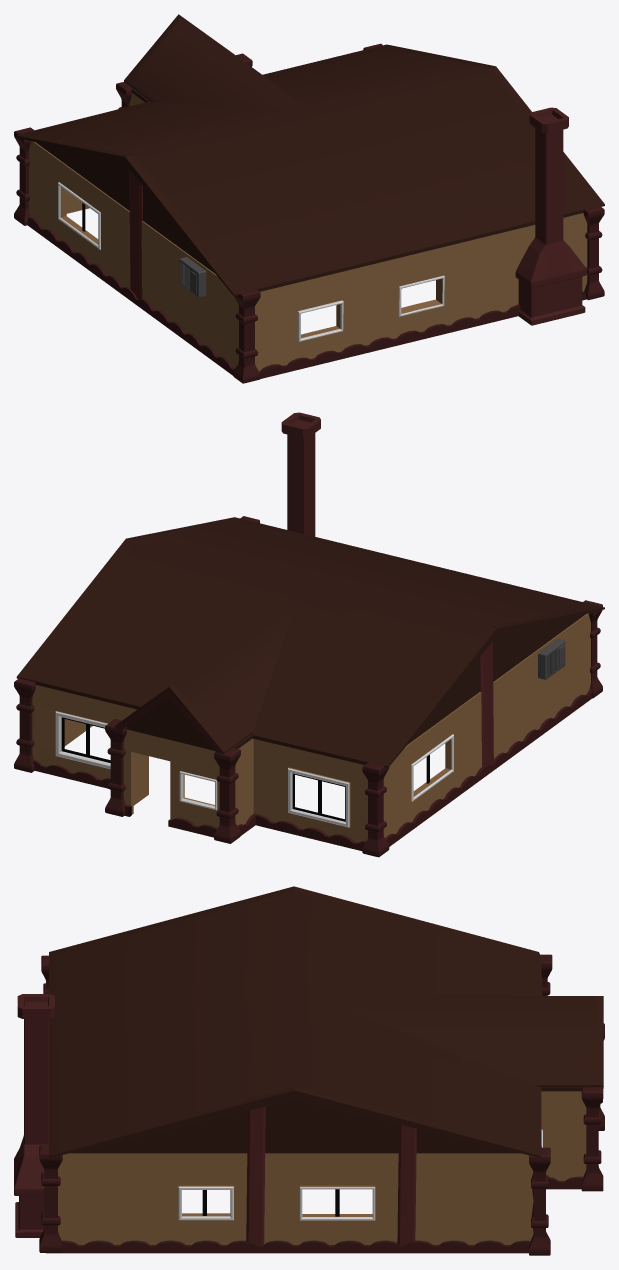
Rendered from Penny_Exterior.fbx.
3 views of the same model, one above another, from view 1: azimuth 30°, elevation 25°; view 2: azimuth 150°, elevation 25°; view 3: azimuth 270°, elevation 25° (orthographic). The views are drawn at different scales.
Visible parts, largest first — view 1: Exterior; view 2: Exterior; view 3: Exterior.
Boxes of the visible parts, <box> form: Exterior: <box>14,14,604,383</box>; Exterior: <box>14,412,604,857</box>; Exterior: <box>14,886,604,1255</box>.
Bounding box in the file's own units: 113 × 57.06 × 138.
